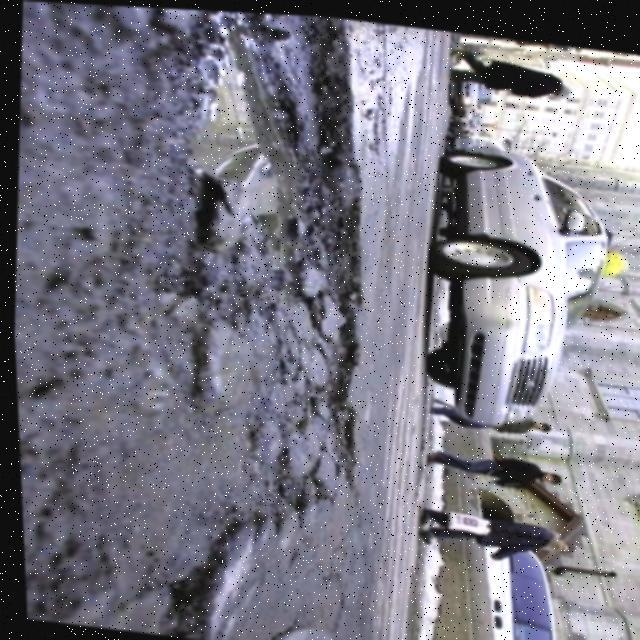pothole: (52, 2, 390, 510)
